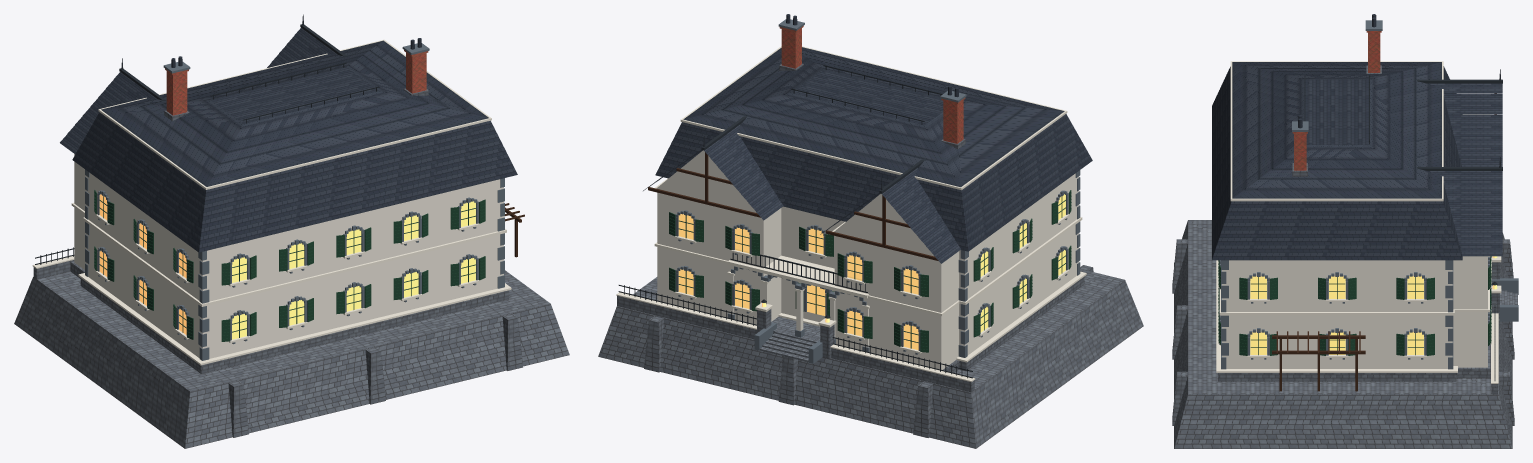
The model's file is fv_btx_07_bui_thi_xuan_117_le_recit_boutique_mansard.glb.
3 renders of one model, left to right at view 1: azimuth 30°, elevation 25°; view 2: azimuth 150°, elevation 25°; view 3: azimuth 270°, elevation 25°, orthographic.
Parts seen in each view (by area): view 1: Normandy_Brittany_Layered_Roof, Foundation_Skirt_Neg3p5m, Villa_Stucco_Walls, Molded_Cornices_And_Sills, PineGreen_Louvered_Shutters, Stone_Quoins_And_Arches, Warm_Night_Windows_20h00_Blend, Brick_Chimney_Stacks, Wrought_Iron_Balustrades_And_Gate, Roof_Ridges_Caps_And_Finials; view 2: Normandy_Brittany_Layered_Roof, Foundation_Skirt_Neg3p5m, Villa_Stucco_Walls, Molded_Cornices_And_Sills, Stone_Quoins_And_Arches, PineGreen_Louvered_Shutters, Warm_Night_Windows_20h00_Blend, Wrought_Iron_Balustrades_And_Gate, Exposed_Timber_Trusses_And_Rafters, Brick_Chimney_Stacks, Roof_Ridges_Caps_And_Finials; view 3: Normandy_Brittany_Layered_Roof, Foundation_Skirt_Neg3p5m, Villa_Stucco_Walls, Molded_Cornices_And_Sills, Stone_Quoins_And_Arches, PineGreen_Louvered_Shutters, Warm_Night_Windows_20h00_Blend, Exposed_Timber_Trusses_And_Rafters, Brick_Chimney_Stacks, Roof_Ridges_Caps_And_Finials.
Boxes of the visible parts, x1=… form: Normandy_Brittany_Layered_Roof: x1=60, y1=28, x2=517, y2=252; Foundation_Skirt_Neg3p5m: x1=14, y1=88, x2=569, y2=448; Villa_Stucco_Walls: x1=74, y1=154, x2=503, y2=358; Molded_Cornices_And_Sills: x1=32, y1=39, x2=511, y2=365; PineGreen_Louvered_Shutters: x1=94, y1=190, x2=485, y2=341; Stone_Quoins_And_Arches: x1=85, y1=43, x2=504, y2=360; Warm_Night_Windows_20h00_Blend: x1=99, y1=194, x2=475, y2=339; Brick_Chimney_Stacks: x1=165, y1=50, x2=428, y2=115; Wrought_Iron_Balustrades_And_Gate: x1=35, y1=62, x2=379, y2=264; Roof_Ridges_Caps_And_Finials: x1=119, y1=14, x2=346, y2=100; Normandy_Brittany_Layered_Roof: x1=645, y1=14, x2=1092, y2=263; Foundation_Skirt_Neg3p5m: x1=598, y1=63, x2=1143, y2=448; Villa_Stucco_Walls: x1=656, y1=150, x2=1079, y2=369; Molded_Cornices_And_Sills: x1=616, y1=46, x2=1086, y2=382; Stone_Quoins_And_Arches: x1=675, y1=19, x2=1080, y2=363; PineGreen_Louvered_Shutters: x1=669, y1=190, x2=1071, y2=352; Warm_Night_Windows_20h00_Blend: x1=678, y1=194, x2=1065, y2=350; Wrought_Iron_Balustrades_And_Gate: x1=618, y1=65, x2=972, y2=378; Exposed_Timber_Trusses_And_Rafters: x1=648, y1=152, x2=938, y2=260; Brick_Chimney_Stacks: x1=779, y1=26, x2=965, y2=143; Roof_Ridges_Caps_And_Finials: x1=643, y1=116, x2=924, y2=234; Normandy_Brittany_Layered_Roof: x1=1212, y1=14, x2=1502, y2=260; Foundation_Skirt_Neg3p5m: x1=1172, y1=65, x2=1517, y2=448; Villa_Stucco_Walls: x1=1222, y1=114, x2=1487, y2=368; Molded_Cornices_And_Sills: x1=1216, y1=61, x2=1501, y2=383; Stone_Quoins_And_Arches: x1=1219, y1=20, x2=1518, y2=369; PineGreen_Louvered_Shutters: x1=1218, y1=256, x2=1491, y2=355; Warm_Night_Windows_20h00_Blend: x1=1250, y1=256, x2=1497, y2=354; Exposed_Timber_Trusses_And_Rafters: x1=1272, y1=93, x2=1496, y2=391; Brick_Chimney_Stacks: x1=1292, y1=31, x2=1381, y2=170; Roof_Ridges_Caps_And_Finials: x1=1417, y1=69, x2=1502, y2=170.
Size of the model in its own units: 29.12 by 20.9 by 22.53.
12 materials, 3 textured.
